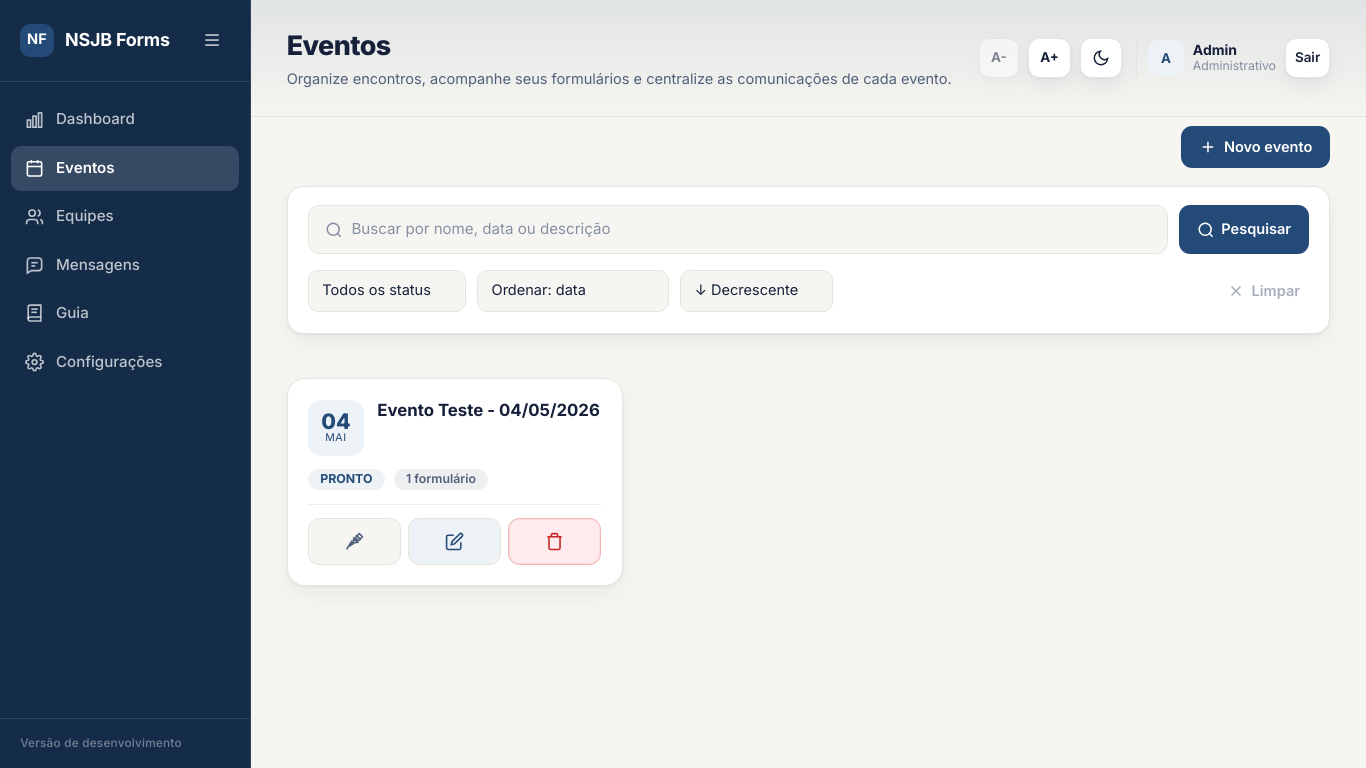
it: App save flow › abre resposta pelo fluxo interno quando usuario esta logado
Step 1. Click the text "Evento Teste - 04/05/2026" → (489, 410), box [377, 400, 601, 421]
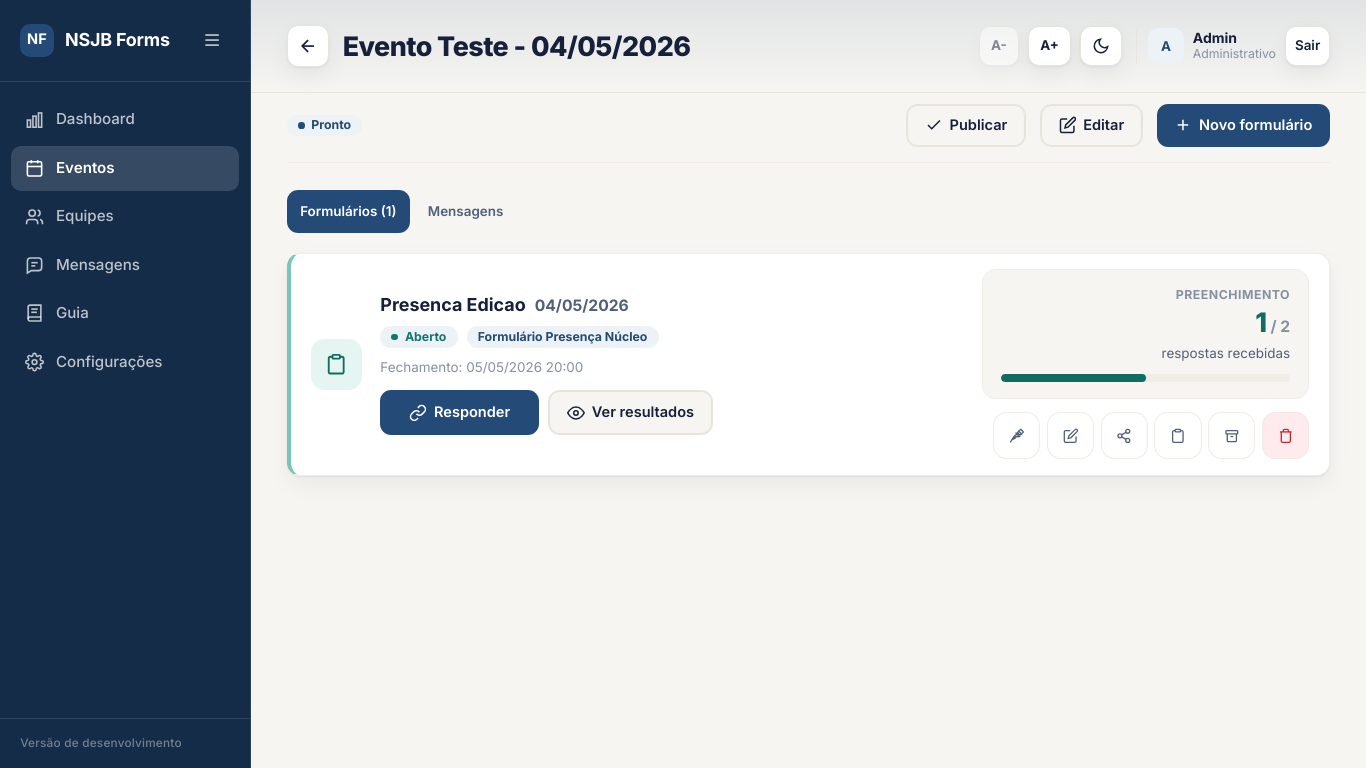
Expected: the text "Presenca Edicao" is shown, [380, 294, 526, 317]
Step 2. Click the button "Responder" → (460, 412), box [380, 390, 539, 435]
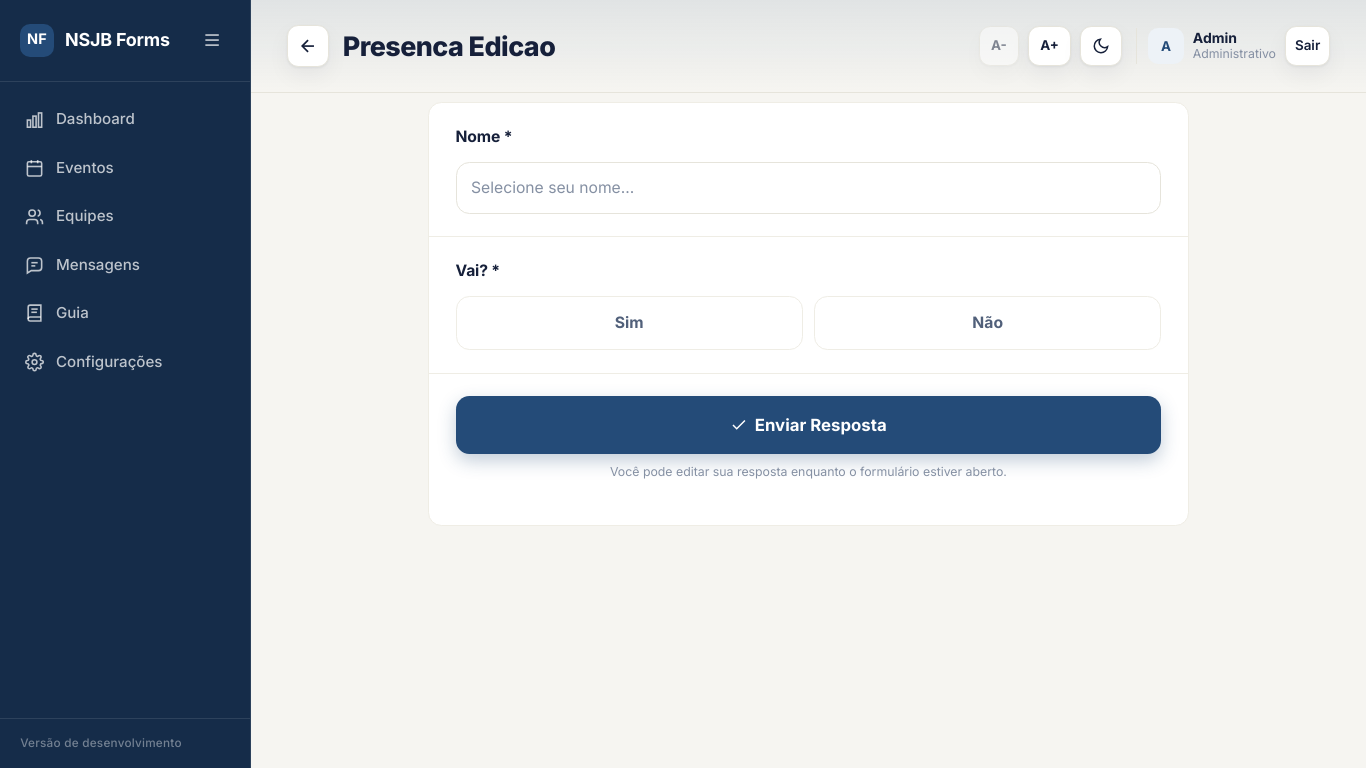
Expected: the text "Nome *" is shown, [456, 127, 512, 146]
Expected: the element with class "internal-response-card" is shown, [428, 102, 1189, 526]
